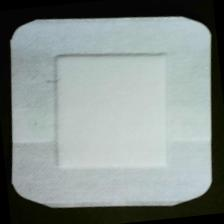Dressing: (1, 1, 224, 224)
F_Body: (36, 67, 70, 96)
